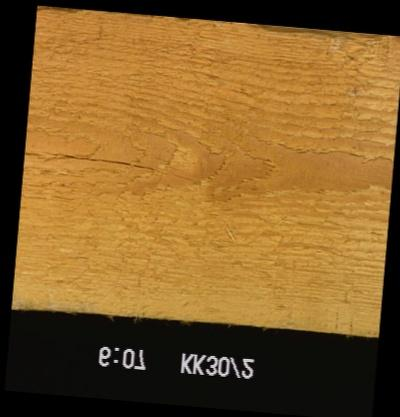split: (23, 155, 155, 167)
wave: (249, 25, 382, 37), (36, 6, 84, 12)
